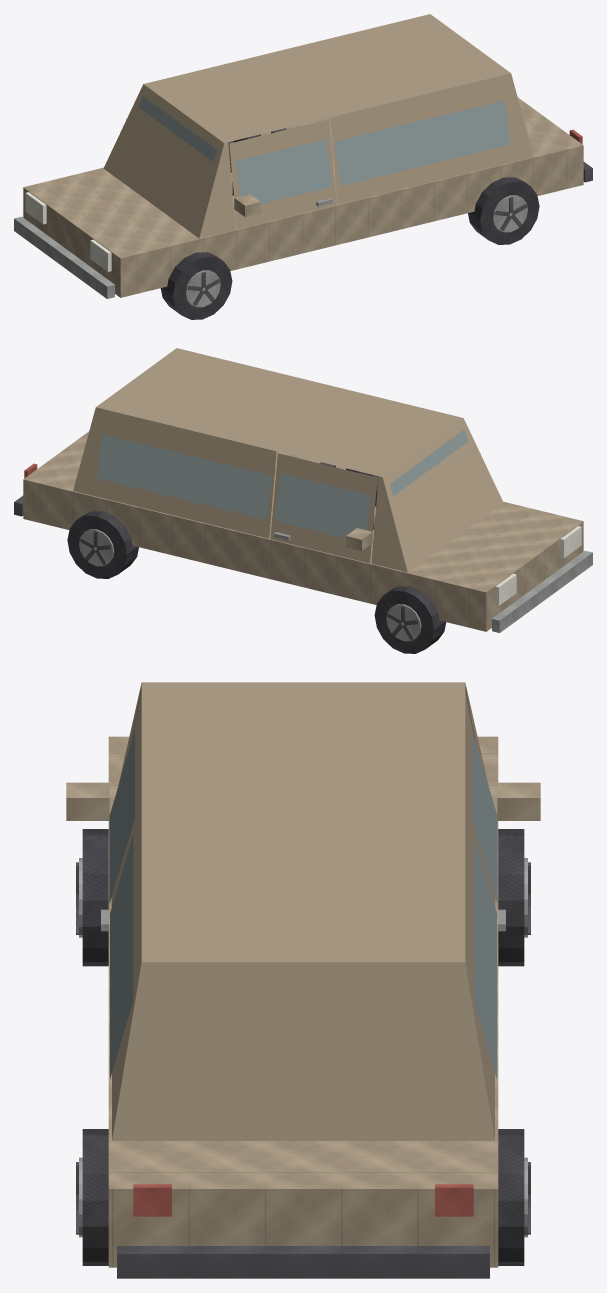
Rendered from vehicle_estate.glb.
3 views of the same model, one above another, from view 1: azimuth 30°, elevation 25°; view 2: azimuth 150°, elevation 25°; view 3: azimuth 270°, elevation 25° (orthographic). The views are drawn at different scales.
Parts seen in each view (by area): view 1: body_panel.002, door_mirror.005, hub.009, hub.011; view 2: body_panel.002, door_mirror.004, hub.008, hub.010; view 3: body_panel.002, door_mirror.004, door_mirror.005, hub.010, hub.011, hub.008, hub.009.
Part boxes in pixels (left/top/right/bottom): body_panel.002: left=14, top=14, right=592, bottom=298; door_mirror.005: left=229, top=119, right=336, bottom=229; hub.009: left=160, top=252, right=232, bottom=319; hub.011: left=468, top=177, right=539, bottom=244; body_panel.002: left=14, top=348, right=592, bottom=632; door_mirror.004: left=270, top=453, right=377, bottom=563; hub.008: left=374, top=586, right=446, bottom=653; hub.010: left=67, top=511, right=138, bottom=578; body_panel.002: left=108, top=682, right=498, bottom=1278; door_mirror.004: left=465, top=691, right=540, bottom=931; door_mirror.005: left=66, top=691, right=141, bottom=931; hub.010: left=498, top=1129, right=530, bottom=1265; hub.011: left=76, top=1129, right=108, bottom=1265; hub.008: left=498, top=829, right=530, bottom=966; hub.009: left=76, top=829, right=108, bottom=966.
Size of the model in its own units: 4.9 by 1.51 by 2.07.
7 materials, 7 textured.
